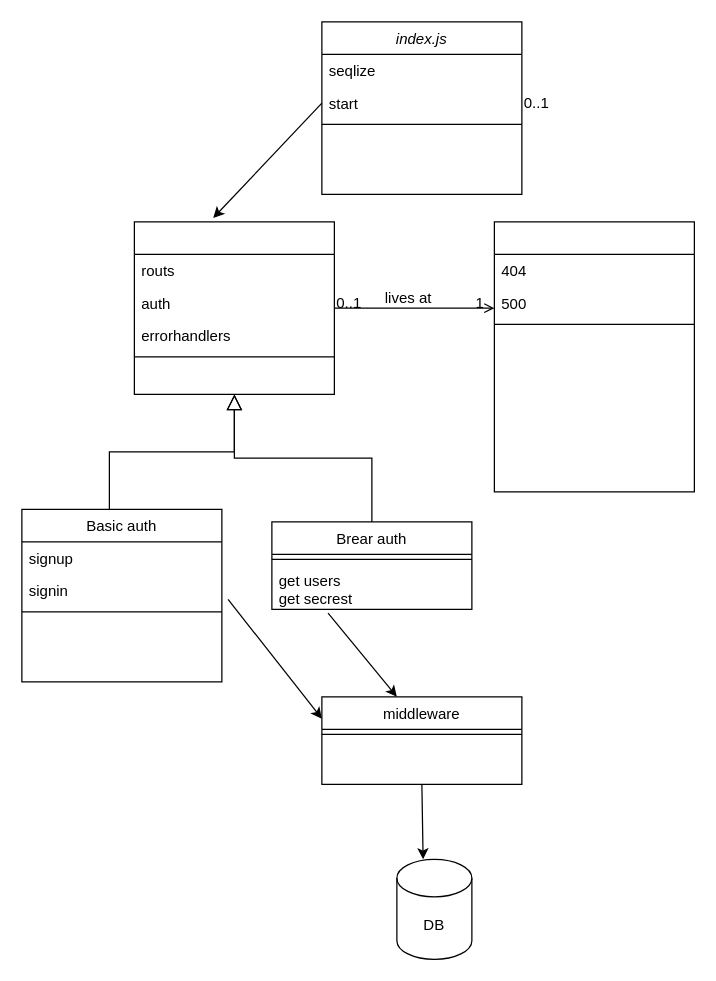
Image size: 716x981. Some labels were removed from this diagram. Here are the shapes that lost their labels. From the top down, the box of each, then its label:
(133, 221, 334, 394): server.js
(493, 221, 694, 492): Error handlers
